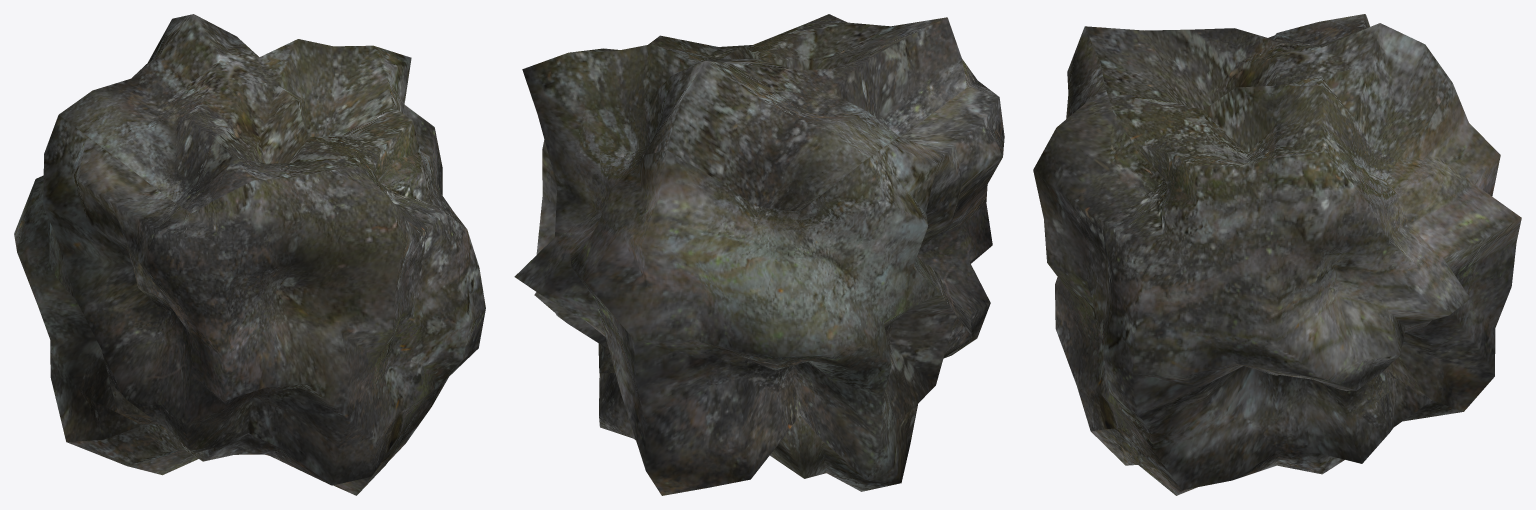
File: rock4.fbx
The picture shows the model from 3 angles, left to right: view 1: azimuth 30°, elevation 25°; view 2: azimuth 150°, elevation 25°; view 3: azimuth 270°, elevation 25°; orthographic projection. The views are drawn at different scales.
Visible parts, largest first — view 1: Cube.040; view 2: Cube.040; view 3: Cube.040.
Boxes of the visible parts, x1,y1,x2,y2 form: Cube.040: [14, 14, 485, 495]; Cube.040: [514, 14, 1004, 495]; Cube.040: [1033, 14, 1521, 495].
Size of the model in its own units: 147 by 153 by 158.
